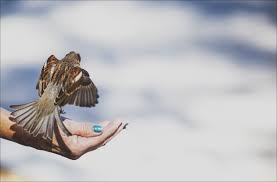hsparrow: (14, 40, 100, 159)
